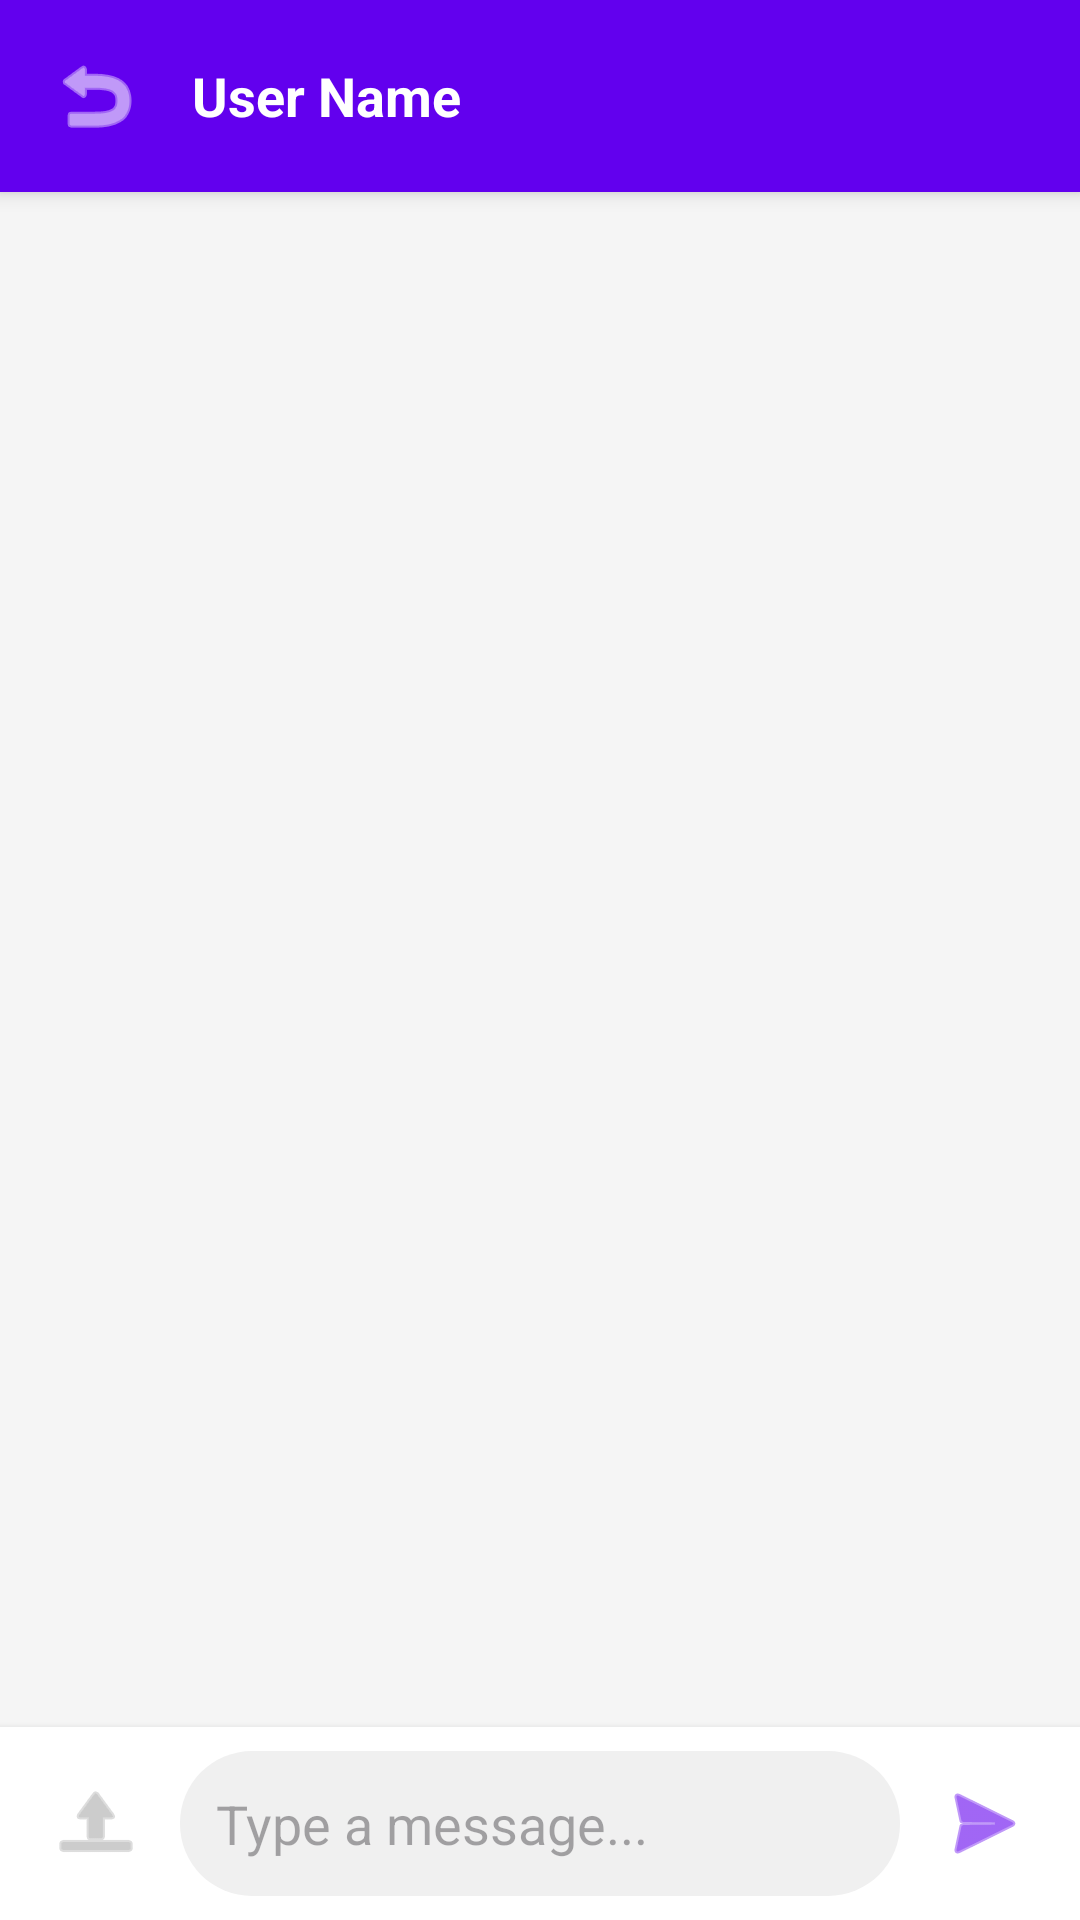

Icon bounding boxes for this 1080 × 1920 phone screenshot, format rect(x1, y1, x2, y2):
revert: rect(63, 65, 132, 128)
send: rect(954, 1793, 1016, 1854)
upload: rect(60, 1792, 132, 1852)
